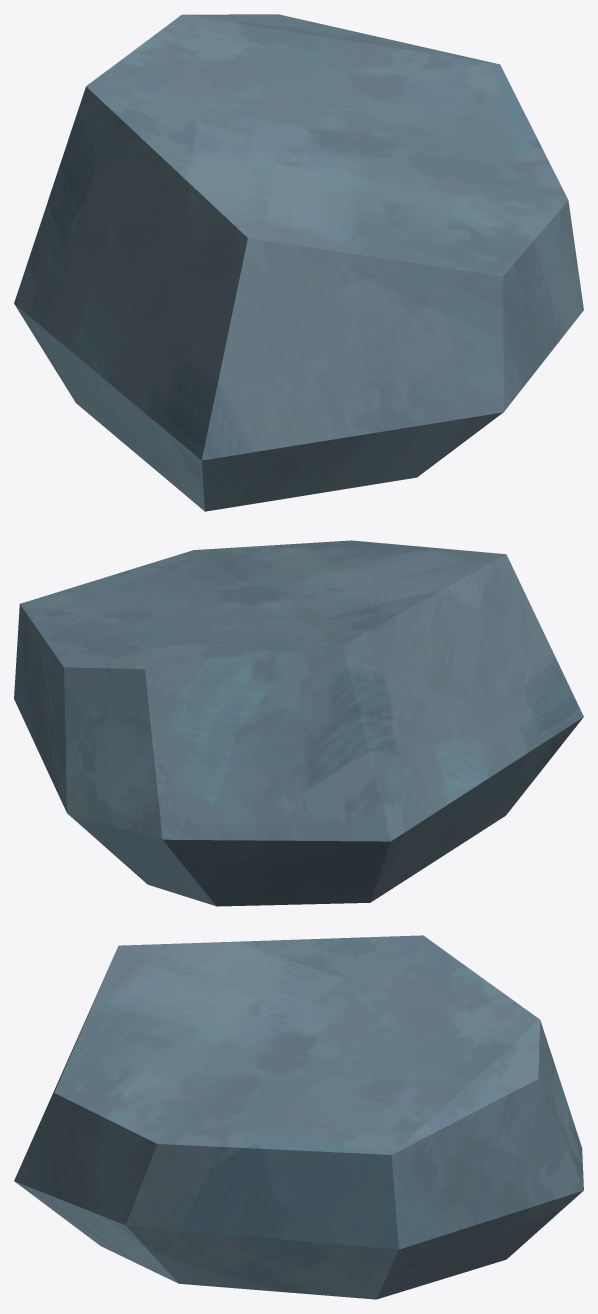
The model's file is stone2.fbx.
3 views of the same model, one above another, from view 1: azimuth 30°, elevation 25°; view 2: azimuth 150°, elevation 25°; view 3: azimuth 270°, elevation 25° (orthographic). The views are drawn at different scales.
Visible parts, largest first — view 1: stone2; view 2: stone2; view 3: stone2.
Part boxes in pixels (box(x1,y1,x2,y2)): stone2: box(14, 14, 583, 511); stone2: box(14, 540, 583, 906); stone2: box(14, 935, 583, 1299).
Size of the model in its own units: 268 by 161 by 318.
